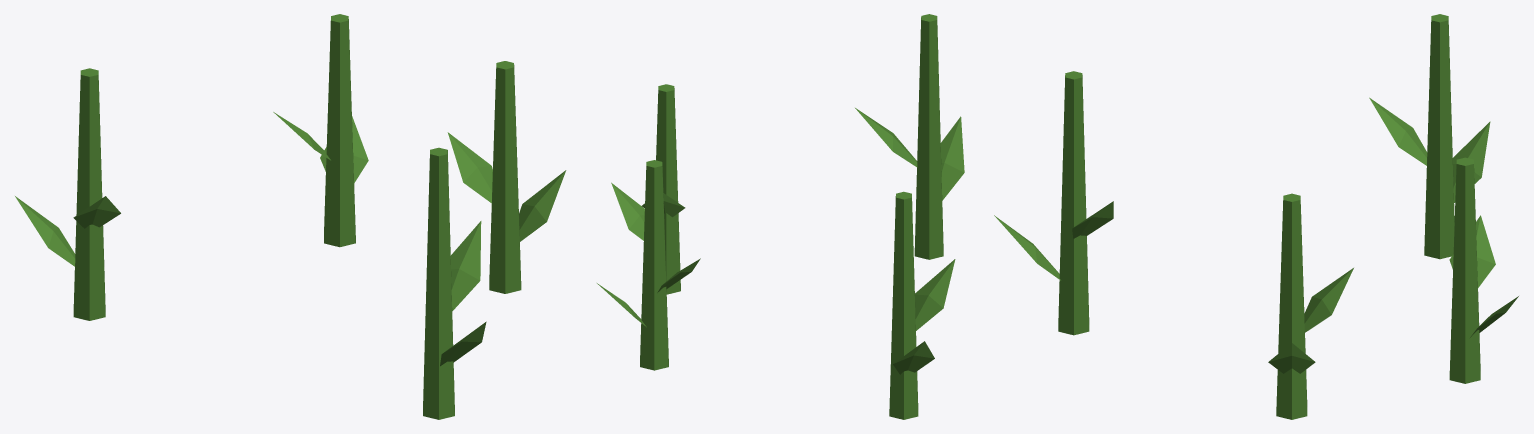
The model's file is wheat_stage_0.glb.
The picture shows the model from 3 angles, left to right: view 1: azimuth 30°, elevation 25°; view 2: azimuth 150°, elevation 25°; view 3: azimuth 270°, elevation 25°; orthographic projection. The views are drawn at different scales.
Parts seen in each view (by area): view 1: wheat_stage_0_Mesh; view 2: wheat_stage_0_Mesh; view 3: wheat_stage_0_Mesh.
Boxes of the visible parts, <box> form: wheat_stage_0_Mesh: <box>15,14,566,419</box>; wheat_stage_0_Mesh: <box>597,14,964,419</box>; wheat_stage_0_Mesh: <box>994,14,1518,419</box>.
Bounding box in the file's own units: 0.2532 × 0.14 × 0.2645.
